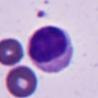L: (27, 24, 74, 74)
